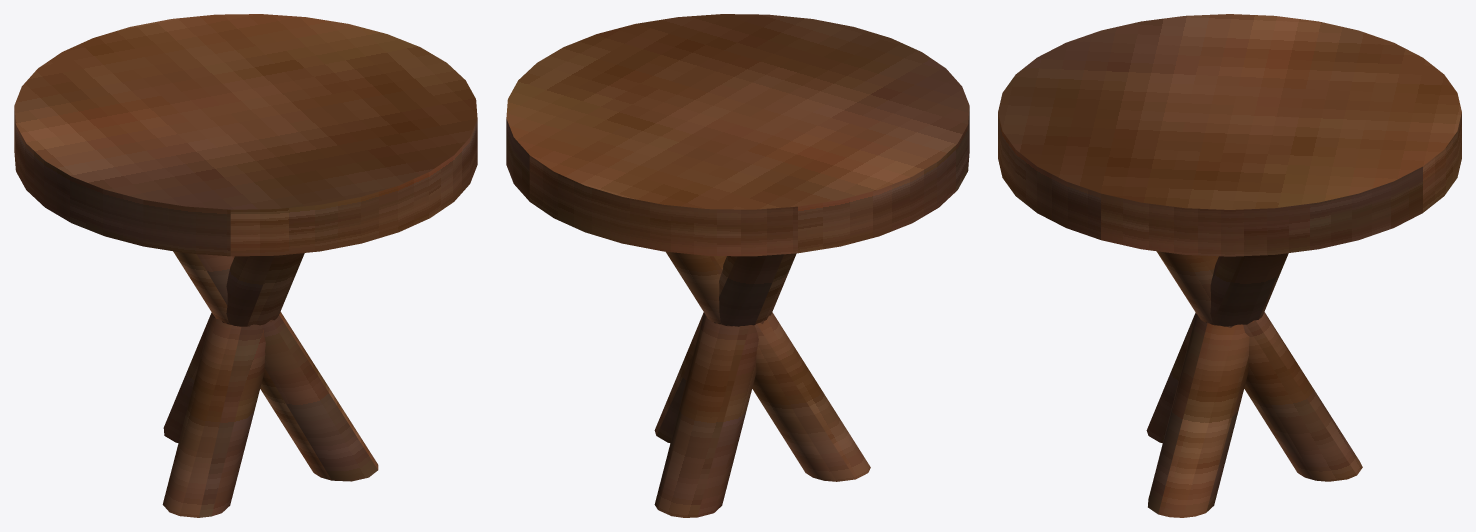
Rendered from tabouret.glb.
The picture shows the model from 3 angles, left to right: view 1: azimuth 30°, elevation 25°; view 2: azimuth 150°, elevation 25°; view 3: azimuth 270°, elevation 25°; orthographic projection.
Visible parts, largest first — view 1: tabouret; view 2: tabouret; view 3: tabouret.
Boxes of the visible parts, bbox=[...] form: tabouret: bbox=[14, 14, 477, 517]; tabouret: bbox=[506, 14, 969, 517]; tabouret: bbox=[998, 14, 1461, 517].
Size of the model in its own units: 1.96 by 1.66 by 1.96.
1 material, 1 textured.
